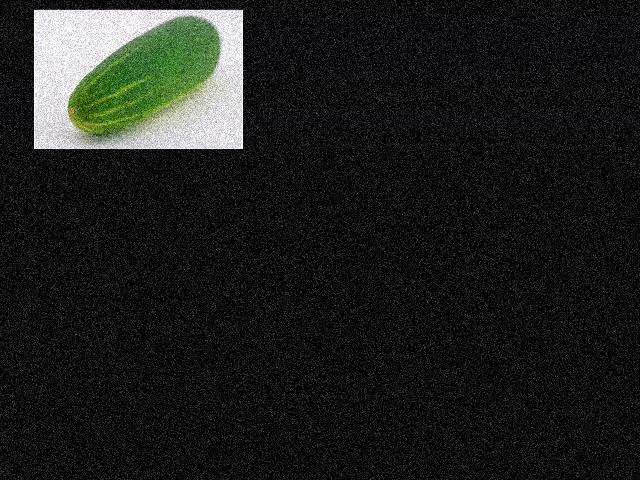cucumber: (68, 16, 220, 134)
